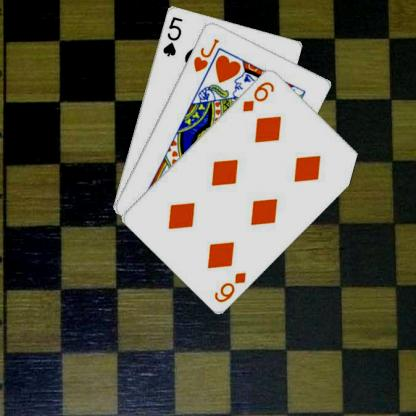5S: (160, 14, 183, 58)
6D: (211, 269, 248, 304), (240, 78, 275, 113)
JH: (190, 35, 220, 73)
